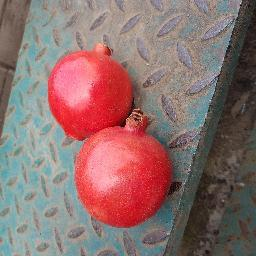Good_pomegranate: (75, 120, 187, 228), (48, 41, 133, 132)
